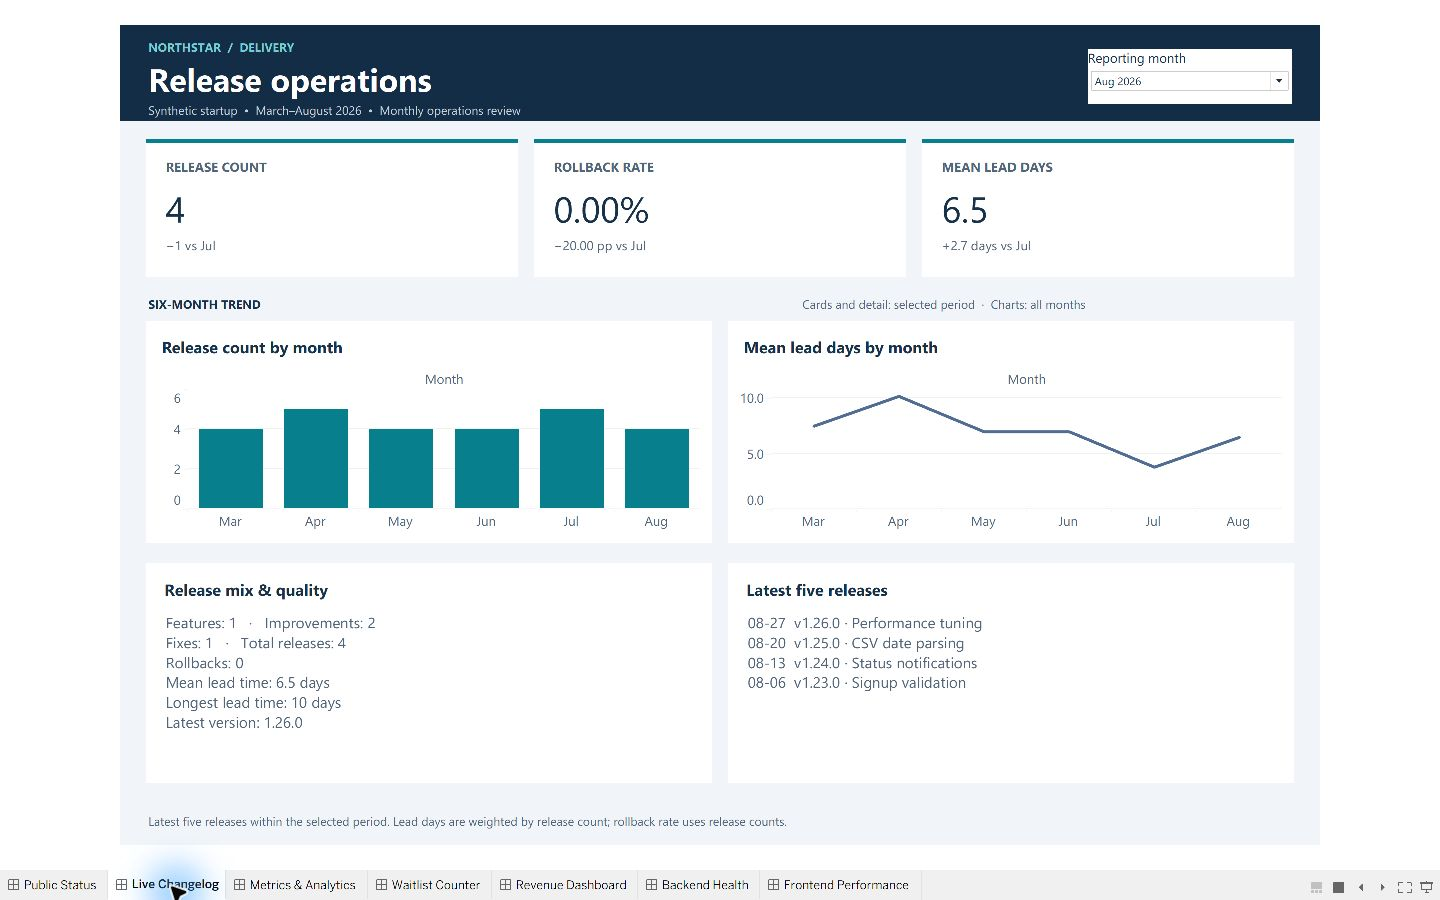

The page's visual inventory and layout, read from the dashboard file:
{"tool":"tableau","page":{"name":"Live Changelog","canvas":[1200,820],"ordinal":2},"visuals":[{"type":"text","box":[0,0,1200,820]},{"type":"text","box":[0,0,1200,96]},{"type":"text","box":[26,12,800,20]},{"type":"parameter","param":"[Parameters].[Period]","box":[968,24,204,55]},{"type":"text","box":[26,34,830,40]},{"type":"text","box":[26,76,840,18]},{"type":"text","box":[26,114,372,138]},{"type":"text","box":[26,114,372,4]},{"type":"text","box":[414,114,372,138]},{"type":"text","box":[414,114,372,4]},{"type":"text","box":[802,114,372,138]},{"type":"text","box":[802,114,372,4]},{"type":"worksheet","title":"02 KPI 1 Release count","mark":"Text","box":[42,129,340,74]},{"type":"worksheet","title":"02 KPI 2 Rollback rate","mark":"Text","box":[430,129,340,74]},{"type":"worksheet","title":"02 KPI 3 Mean lead days","mark":"Text","box":[818,129,340,74]},{"type":"worksheet","title":"D02 delta 1","mark":"Text","box":[42,211,340,29]},{"type":"worksheet","title":"D02 delta 2","mark":"Text","box":[430,211,340,29]},{"type":"worksheet","title":"D02 delta 3","mark":"Text","box":[818,211,340,29]},{"type":"text","box":[26,268,500,22]},{"type":"text","box":[680,268,492,22]},{"type":"text","box":[26,296,566,222]},{"type":"text","box":[608,296,566,222]},{"type":"worksheet","title":"02 Trend 1","mark":"Bar","rows":["history_releases"],"cols":["Month"],"box":[38,307,542,199]},{"type":"worksheet","title":"02 Trend 2","mark":"Line","rows":["history_lead"],"cols":["Month"],"box":[620,307,542,199]},{"type":"text","box":[26,538,566,220]},{"type":"text","box":[608,538,566,220]},{"type":"text","box":[42,551,534,28]},{"type":"text","box":[624,551,534,28]},{"type":"worksheet","title":"D02 detail 1","mark":"Text","box":[42,587,534,157]},{"type":"worksheet","title":"D02 detail 2","mark":"Text","box":[624,587,534,157]},{"type":"text","box":[26,776,1144,40]}]}

Visuals, with their boxes on the page's 1200x820 design canvas (x1, y1, x2, y2). These are canvas units, not pixel positions in the 1440x900 screenshot, which may show the page scaled, cropped or inside an application window:
text: box(0, 0, 1200, 820)
text: box(0, 0, 1200, 96)
text: box(26, 12, 826, 32)
parameter: box(968, 24, 1172, 79)
text: box(26, 34, 856, 74)
text: box(26, 76, 866, 94)
text: box(26, 114, 398, 252)
text: box(26, 114, 398, 118)
text: box(414, 114, 786, 252)
text: box(414, 114, 786, 118)
text: box(802, 114, 1174, 252)
text: box(802, 114, 1174, 118)
"02 KPI 1 Release count" worksheet (Text marks): box(42, 129, 382, 203)
"02 KPI 2 Rollback rate" worksheet (Text marks): box(430, 129, 770, 203)
"02 KPI 3 Mean lead days" worksheet (Text marks): box(818, 129, 1158, 203)
"D02 delta 1" worksheet (Text marks): box(42, 211, 382, 240)
"D02 delta 2" worksheet (Text marks): box(430, 211, 770, 240)
"D02 delta 3" worksheet (Text marks): box(818, 211, 1158, 240)
text: box(26, 268, 526, 290)
text: box(680, 268, 1172, 290)
text: box(26, 296, 592, 518)
text: box(608, 296, 1174, 518)
"02 Trend 1" worksheet (Bar marks): box(38, 307, 580, 506)
"02 Trend 2" worksheet (Line marks): box(620, 307, 1162, 506)
text: box(26, 538, 592, 758)
text: box(608, 538, 1174, 758)
text: box(42, 551, 576, 579)
text: box(624, 551, 1158, 579)
"D02 detail 1" worksheet (Text marks): box(42, 587, 576, 744)
"D02 detail 2" worksheet (Text marks): box(624, 587, 1158, 744)
text: box(26, 776, 1170, 816)
